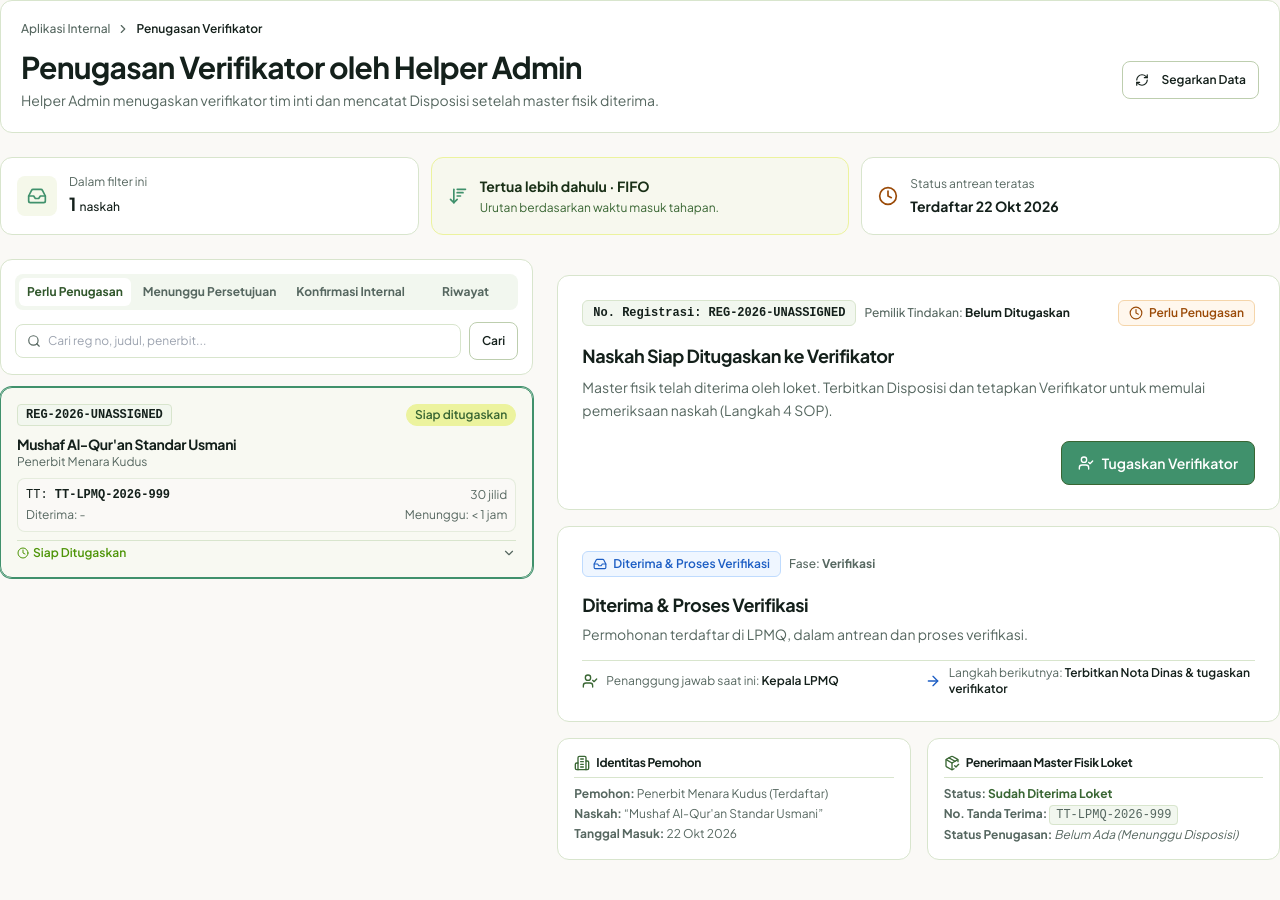
Scenario: VerifikatorInboxPage Component › untuk peran SUPERADMIN: memuat tab Perlu Penugasan secara default dan membuka dialog penugasan
Expected: the text "REG-2026-UNASSIGNED" is shown, [17, 404, 172, 426]
Expected: the heading "Mushaf Al-Qur'an Standar Usmani" is shown, [17, 435, 236, 453]
Click the button "Tugaskan Verifikator": click(1158, 463) [1061, 441, 1255, 485]
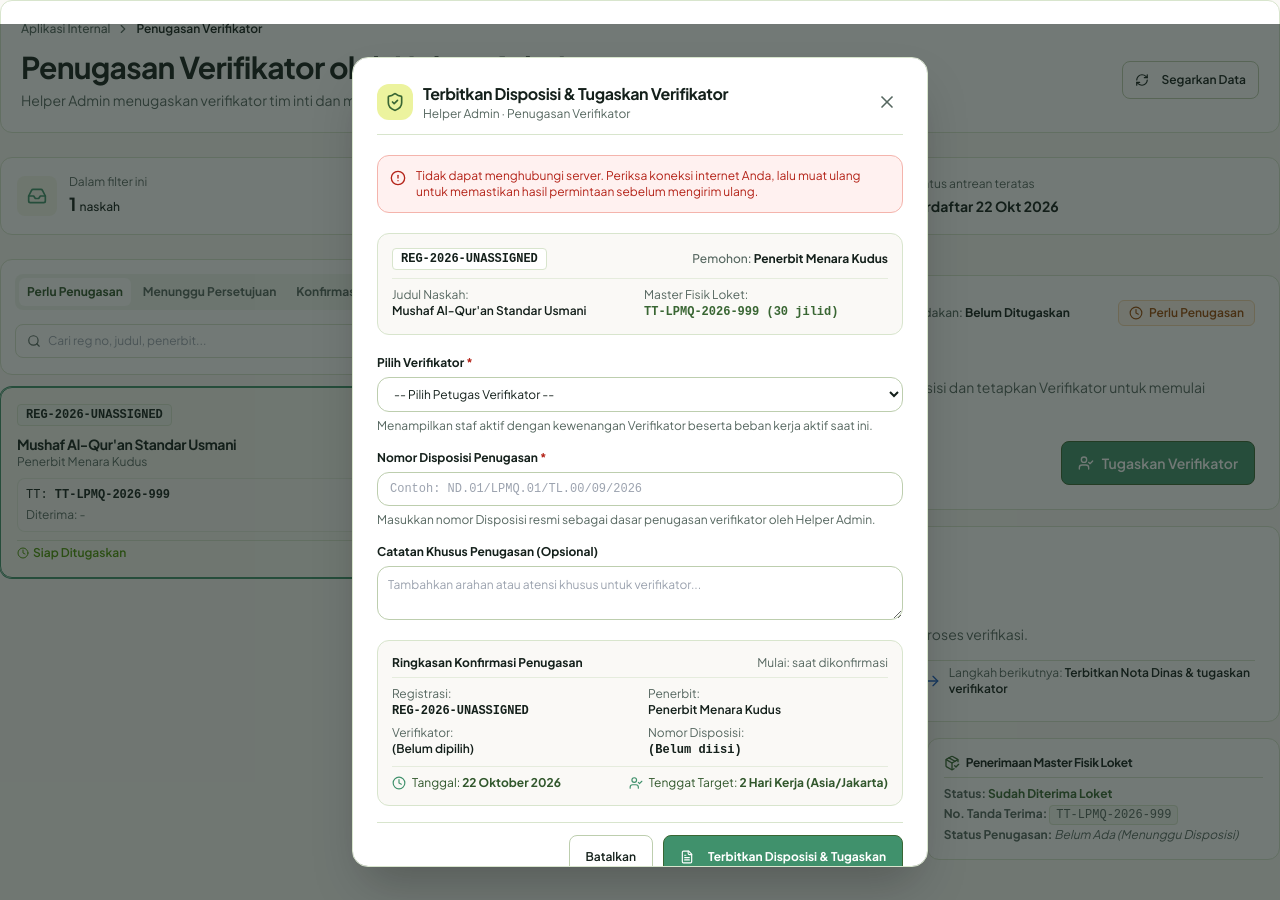
Result: the dialog is shown
Result: the heading "Terbitkan Disposisi & Tugaskan Verifikator" is shown at [423, 82, 728, 106]
